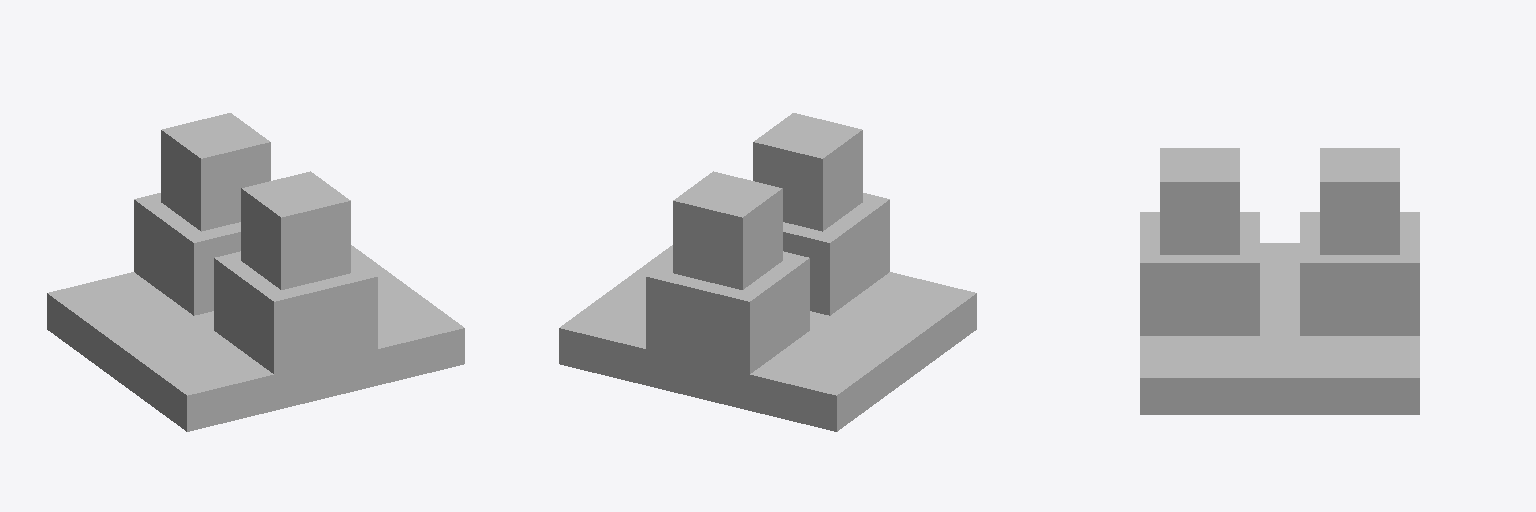
File: rs_remapper.obj
3 renders of one model, left to right at view 1: azimuth 30°, elevation 25°; view 2: azimuth 150°, elevation 25°; view 3: azimuth 270°, elevation 25°, orthographic.
Visible parts, largest first — view 1: Cube, connector, connector.001_connector.002; view 2: Cube, connector.001_connector.002, connector; view 3: Cube, connector, connector.001_connector.002.
Boxes of the visible parts, box(x1,y1,x2,y2) form: Cube: box(47, 245, 464, 431); connector: box(214, 171, 377, 373); connector.001_connector.002: box(134, 113, 270, 315); Cube: box(559, 245, 976, 431); connector.001_connector.002: box(646, 171, 809, 373); connector: box(753, 113, 889, 315); Cube: box(1140, 243, 1419, 414); connector: box(1140, 148, 1259, 335); connector.001_connector.002: box(1300, 148, 1419, 335).
Size of the model in its own units: 1 by 0.625 by 0.875.